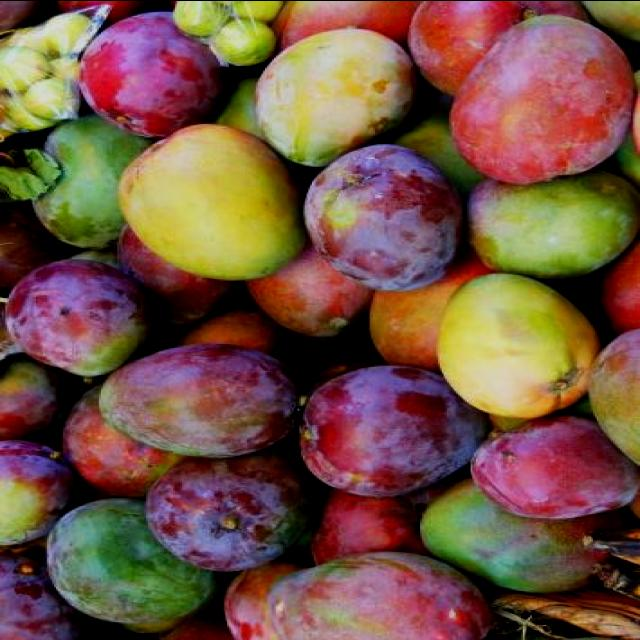mango: (440, 15, 640, 194), (303, 143, 463, 290), (99, 342, 298, 458), (255, 27, 417, 165)
